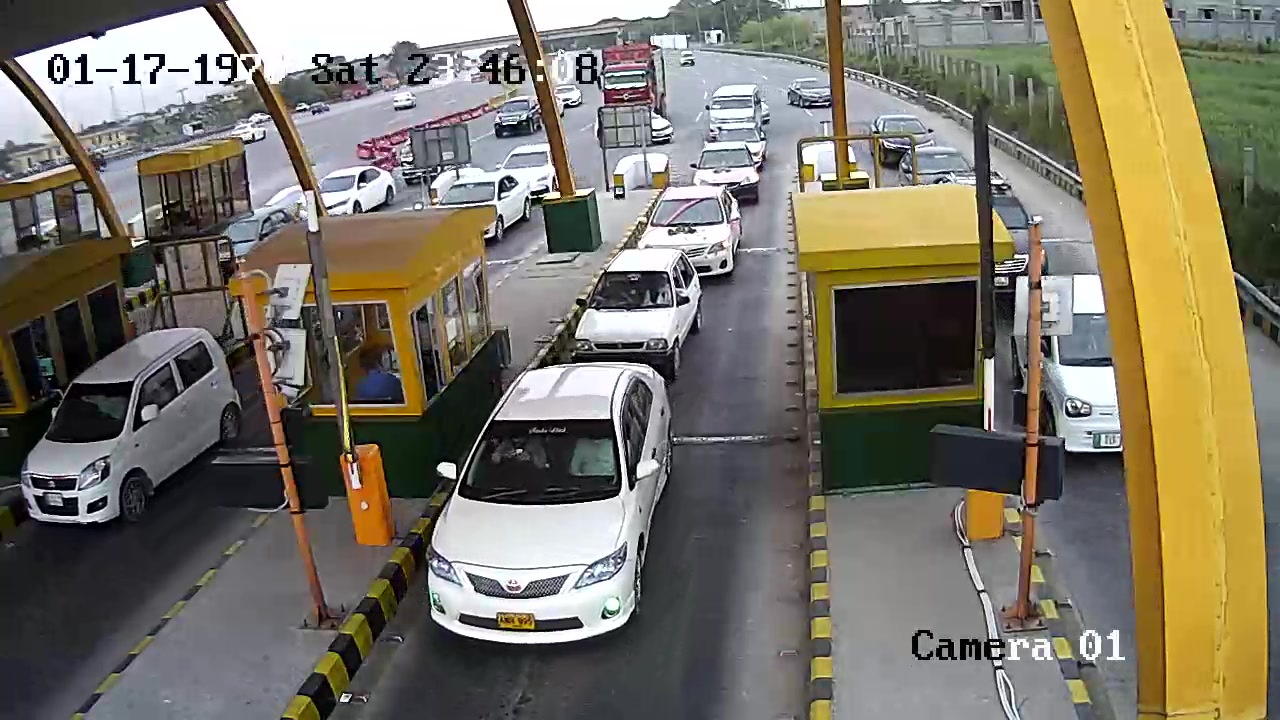F1: (426, 359, 673, 655)
